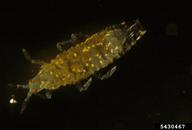Thrips: (12, 12, 144, 95)
